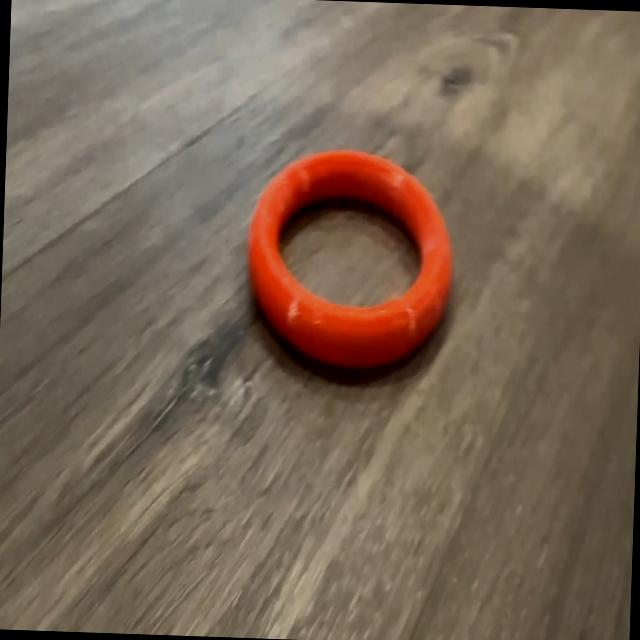note: (241, 141, 457, 377)
